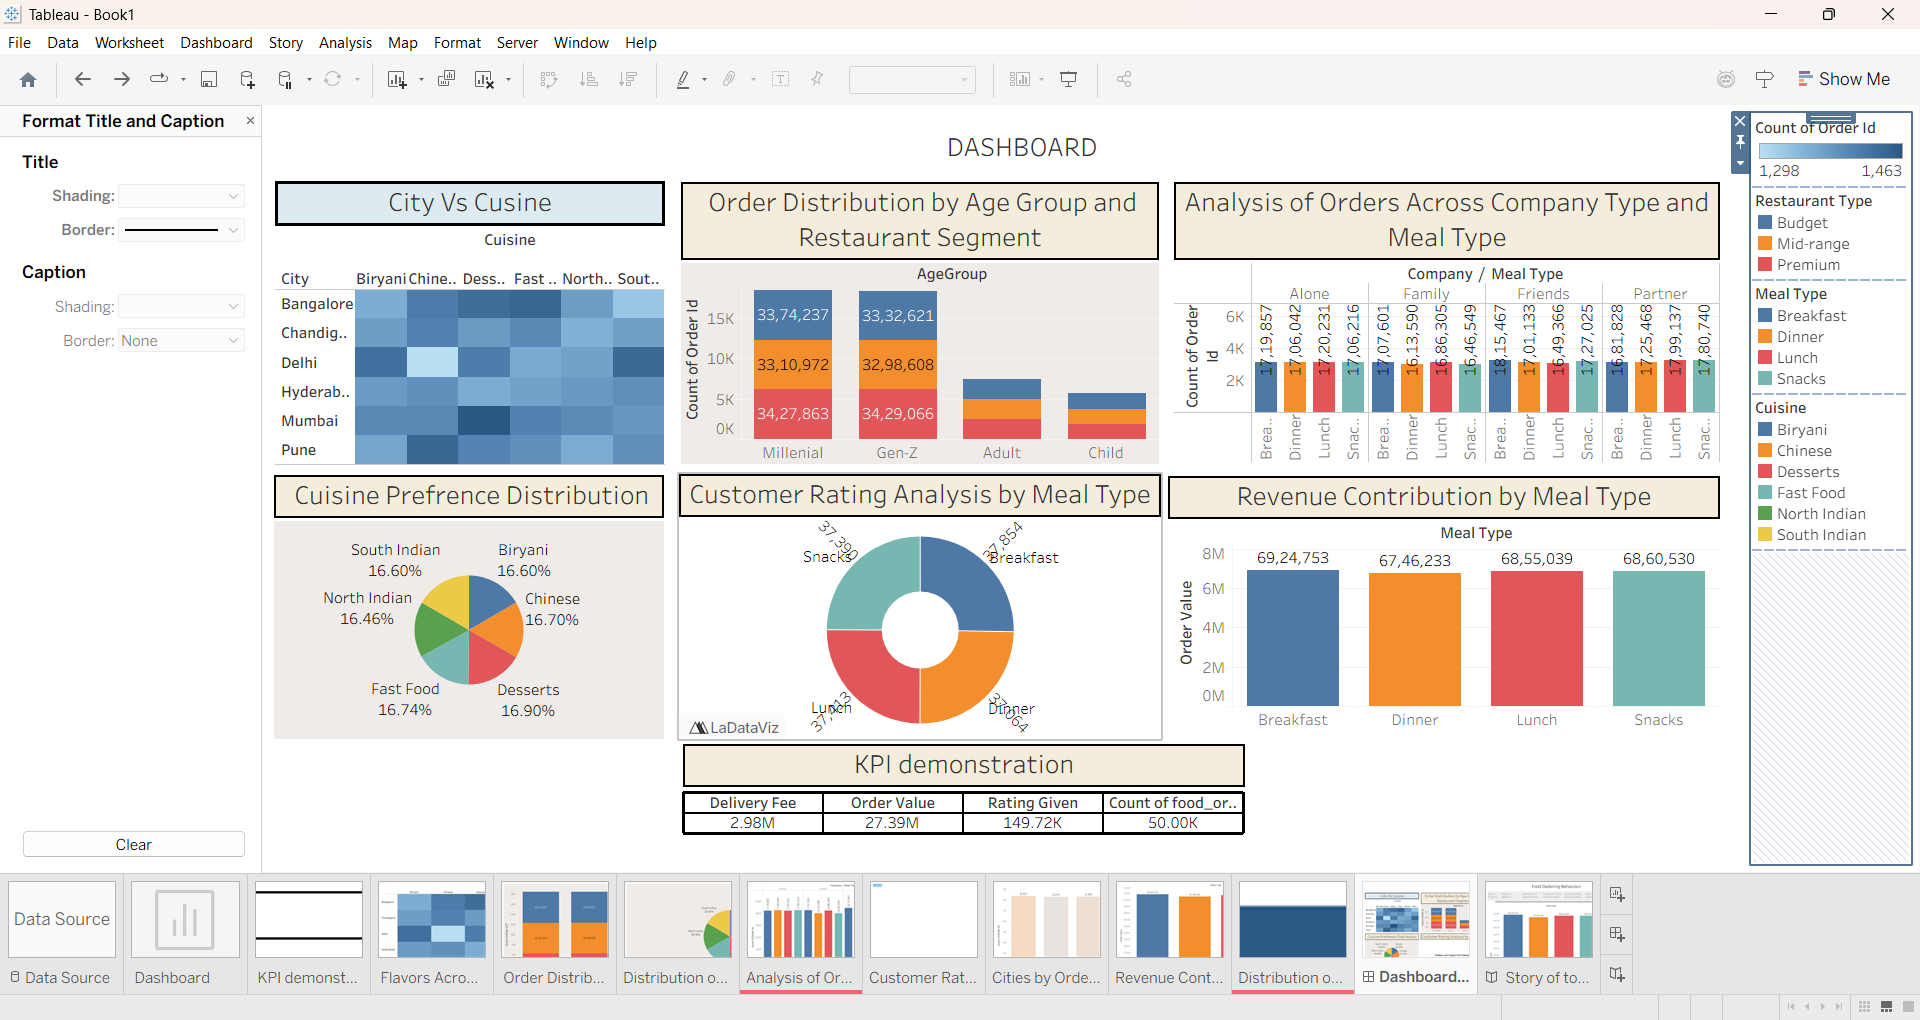

The dashboard page shown, as its layout file describes it:
{"tool":"tableau","page":{"name":"Dashboard 1","canvas":[1000,1000],"units":"permille","ordinal":0},"visuals":[{"type":"legend","title":" Flavors Across Cities","param":"[federated.01qb80d0kdh8ol16pd6ow1i75taf].[cnt:order_id:qk]","box":[898.6,9.4,96.6,85.8]},{"type":"worksheet","title":" Dashboard","mark":"Automatic","box":[234.8,25.9,444.8,54.1]},{"type":"legend","title":" Order Distribution by Age Group and Restaurant Segment","param":"[federated.01qb80d0kdh8ol16pd6ow1i75taf].[none:restaurant_type:nk]","box":[898.6,95.2,96.6,109.3]},{"type":"worksheet","title":" Flavors Across Cities","mark":"Automatic","rows":["city"],"cols":["cuisine"],"box":[7.9,98.7,235.4,370.2]},{"type":"worksheet","title":" Order Distribution by Age Group and Restaurant Segment","mark":"Automatic","rows":["order_id"],"cols":["Calculation_0713878540599296"],"box":[252.9,99.9,288.5,367.8]},{"type":"worksheet","title":"Analysis of Orders Across Company Type and Meal Type","mark":"Automatic","rows":["order_id"],"cols":["company","meal_type"],"box":[550.4,99.9,329.5,366.6]},{"type":"legend","title":"Analysis of Orders Across Company Type and Meal Type","param":"[federated.01qb80d0kdh8ol16pd6ow1i75taf].[none:meal_type:nk]","box":[898.6,204.5,96.6,134]},{"type":"legend","title":"Distribution of Customer Preferences Across Cuisines","param":"[federated.01qb80d0kdh8ol16pd6ow1i75taf].[none:cuisine:nk]","box":[898.6,338.4,96.6,183.3]},{"type":"worksheet","title":"Customer Rating Analysis by Meal Type","mark":"VizExtension","box":[251.7,480.6,290.9,345.5]},{"type":"worksheet","title":"Distribution of Customer Preferences Across Cuisines","mark":"Pie","box":[7.2,481.8,235.4,344.3]},{"type":"worksheet","title":"Revenue Contribution by Meal Type","mark":"Automatic","rows":["order_value"],"cols":["meal_type"],"box":[546.8,484.1,333.1,332.6]},{"type":"worksheet","title":" KPI demonstration ","mark":"Automatic","box":[252.9,833.1,340.4,143.4]}]}

Visuals, with their boxes on the dashboard's canvas, which has no fixed pixel size, in thousandths of its width and height (x1, y1, x2, y2). These are canvas units, not pixel positions in the 1920x1020 screenshot, which may show the page scaled, cropped or inside an application window:
" Flavors Across Cities" legend: x1=899 y1=9 x2=995 y2=95
" Dashboard" worksheet: x1=235 y1=26 x2=680 y2=80
" Order Distribution by Age Group and Restaurant Segment" legend: x1=899 y1=95 x2=995 y2=204
" Flavors Across Cities" worksheet: x1=8 y1=99 x2=243 y2=469
" Order Distribution by Age Group and Restaurant Segment" worksheet: x1=253 y1=100 x2=541 y2=468
"Analysis of Orders Across Company Type and Meal Type" worksheet: x1=550 y1=100 x2=880 y2=466
"Analysis of Orders Across Company Type and Meal Type" legend: x1=899 y1=204 x2=995 y2=338
"Distribution of Customer Preferences Across Cuisines" legend: x1=899 y1=338 x2=995 y2=522
"Customer Rating Analysis by Meal Type" worksheet (VizExtension marks): x1=252 y1=481 x2=543 y2=826
"Distribution of Customer Preferences Across Cuisines" worksheet (Pie marks): x1=7 y1=482 x2=243 y2=826
"Revenue Contribution by Meal Type" worksheet: x1=547 y1=484 x2=880 y2=817
" KPI demonstration " worksheet: x1=253 y1=833 x2=593 y2=976
